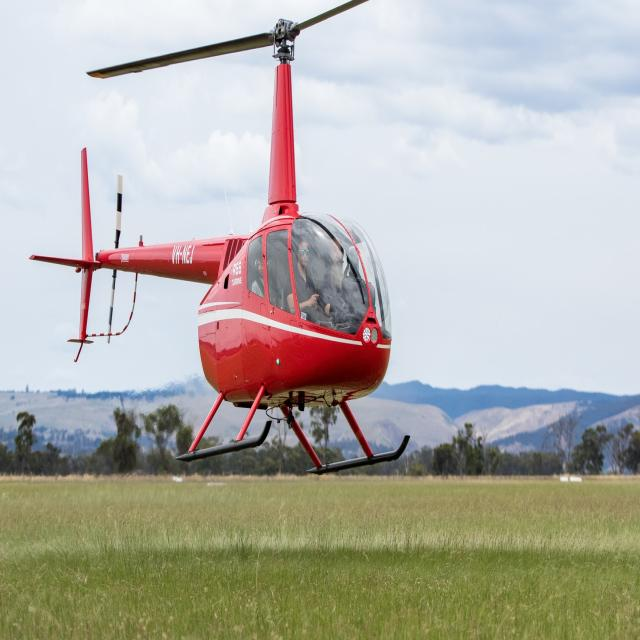helicopter: (30, 1, 415, 470)
